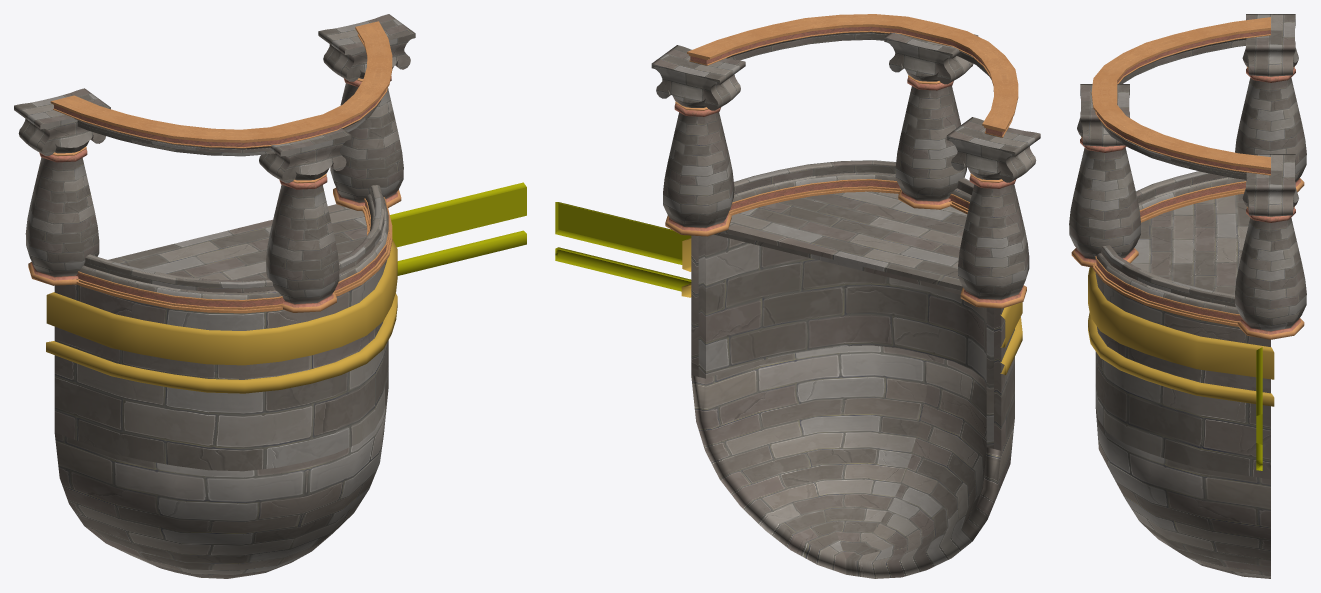
File: Balcony_large_1.fbx
3 renders of one model, left to right at view 1: azimuth 30°, elevation 25°; view 2: azimuth 150°, elevation 25°; view 3: azimuth 270°, elevation 25°, orthographic. The views are drawn at different scales.
Visible parts, largest first — view 1: polySurface933polySurface920polySurface928, polySurface1095, polySurface1089, pillar_classic_bottom34, pillar_classic_bottom32, pillar_classic_bottom33, floor_half_round13, gold_trim82, polySurface1106, polySurface1100, polySurface1086, polySurface1088 (+7 smaller); view 2: polySurface1095, polySurface933polySurface920polySurface928, floor_half_round13, pillar_classic_bottom34, pillar_classic_bottom33, pillar_classic_bottom32, gold_trim82, polySurface1100, polySurface1106, polySurface1093, polySurface1089, polySurface1103 (+4 smaller); view 3: polySurface933polySurface920polySurface928, polySurface1095, pillar_classic_bottom33, polySurface1089, pillar_classic_bottom32, floor_half_round13, pillar_classic_bottom34, polySurface1100, polySurface1106, polySurface1093, polySurface1103, polySurface1086 (+13 smaller).
Boxes of the visible parts, left/top/right/bottom form: polySurface933polySurface920polySurface928: left=54, top=259, right=388, bottom=471; polySurface1095: left=54, top=395, right=387, bottom=578; polySurface1089: left=46, top=239, right=397, bottom=393; pillar_classic_bottom34: left=14, top=88, right=110, bottom=285; pillar_classic_bottom32: left=259, top=128, right=351, bottom=312; pillar_classic_bottom33: left=318, top=14, right=415, bottom=210; floor_half_round13: left=108, top=204, right=367, bottom=280; gold_trim82: left=390, top=182, right=526, bottom=275; polySurface1106: left=50, top=95, right=309, bottom=142; polySurface1100: left=296, top=21, right=392, bottom=132; polySurface1086: left=84, top=254, right=275, bottom=292; polySurface1088: left=79, top=265, right=281, bottom=299; polySurface1095: left=691, top=345, right=1014, bottom=578; polySurface933polySurface920polySurface928: left=691, top=234, right=1014, bottom=450; floor_half_round13: left=714, top=191, right=967, bottom=294; pillar_classic_bottom34: left=946, top=117, right=1040, bottom=308; pillar_classic_bottom33: left=651, top=45, right=745, bottom=236; pillar_classic_bottom32: left=884, top=32, right=978, bottom=209; gold_trim82: left=555, top=202, right=691, bottom=291; polySurface1100: left=687, top=14, right=937, bottom=60; polySurface1106: left=925, top=23, right=1018, bottom=132; polySurface1093: left=734, top=160, right=896, bottom=194; polySurface1089: left=681, top=238, right=1022, bottom=374; polySurface1103: left=732, top=172, right=896, bottom=202; polySurface933polySurface920polySurface928: left=1095, top=273, right=1270, bottom=479; polySurface1095: left=1095, top=407, right=1270, bottom=578; pillar_classic_bottom33: left=1235, top=154, right=1306, bottom=339; polySurface1089: left=1088, top=267, right=1274, bottom=406; pillar_classic_bottom32: left=1069, top=84, right=1140, bottom=267; floor_half_round13: left=1130, top=194, right=1250, bottom=294; pillar_classic_bottom34: left=1235, top=14, right=1306, bottom=192; polySurface1100: left=1091, top=92, right=1270, bottom=170; polySurface1106: left=1091, top=17, right=1270, bottom=92; polySurface1093: left=1101, top=245, right=1235, bottom=306; polySurface1103: left=1096, top=253, right=1238, bottom=314; polySurface1086: left=1136, top=171, right=1228, bottom=203.
Size of the model in its own units: 16.16 by 15.67 by 7.17.
